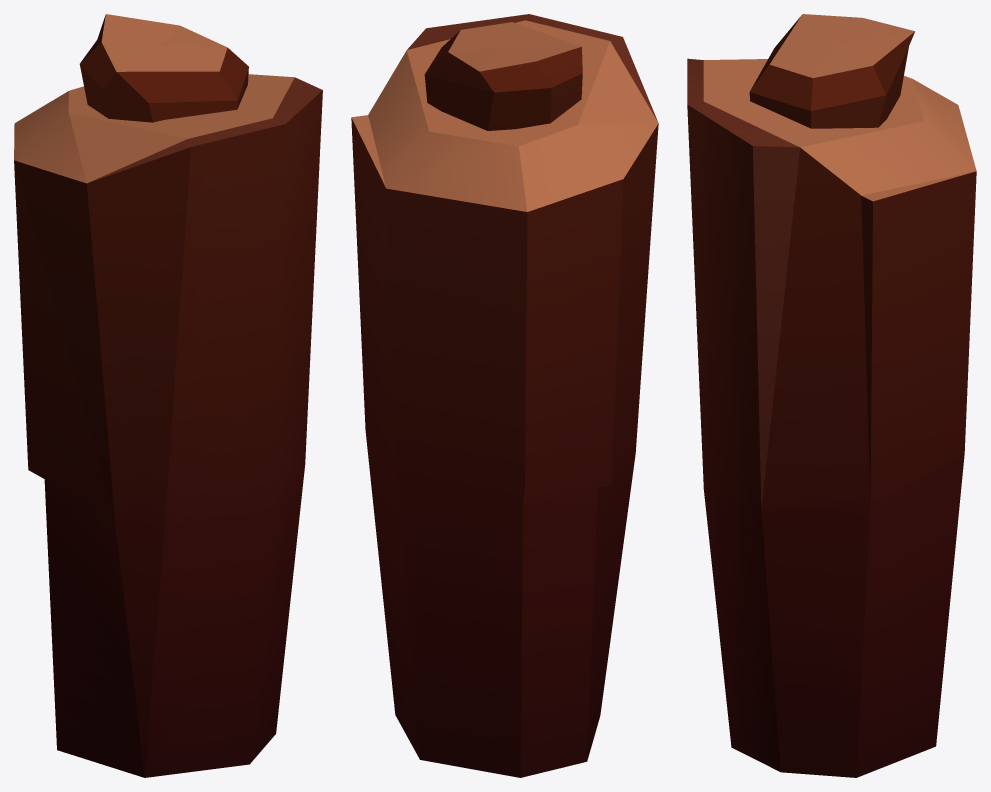
Rendered from cliff4.fbx.
The picture shows the model from 3 angles, left to right: view 1: azimuth 30°, elevation 25°; view 2: azimuth 150°, elevation 25°; view 3: azimuth 270°, elevation 25°; orthographic projection.
Parts seen in each view (by area): view 1: cliff.003; view 2: cliff.003; view 3: cliff.003.
Boxes of the visible parts, box(x1,y1,x2,y2) form: cliff.003: box(14, 14, 322, 777); cliff.003: box(351, 14, 658, 777); cliff.003: box(687, 14, 976, 777).
Size of the model in its own units: 2.74 by 6.79 by 2.58.
